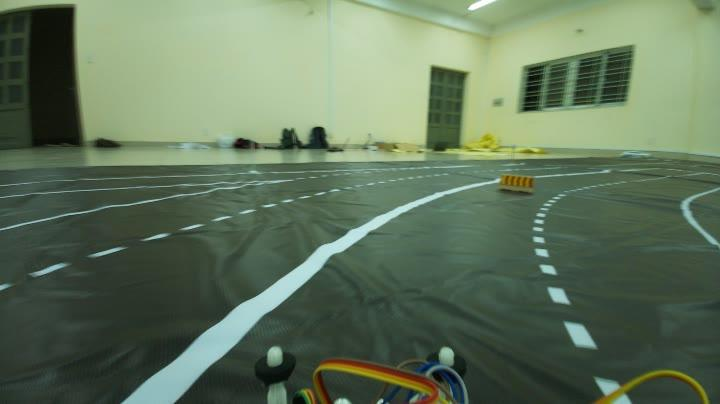roadblock: (496, 169, 534, 197)
